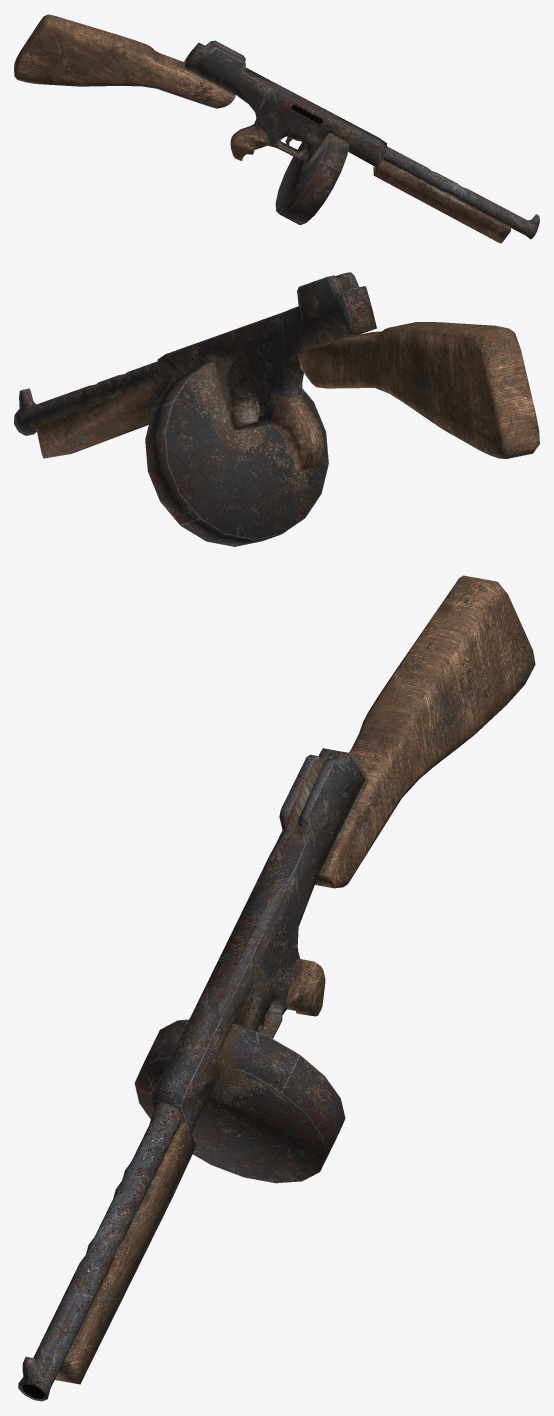
The model's file is Anim_disparar_ametralladora_objetos.0018.obj.
3 renders of one model, top to bottom at view 1: azimuth 30°, elevation 25°; view 2: azimuth 150°, elevation 25°; view 3: azimuth 270°, elevation 25°, orthographic. The views are drawn at different scales.
Visible parts, largest first — view 1: Ametralladora1; view 2: Ametralladora1; view 3: Ametralladora1.
Boxes of the visible parts, <box> form: Ametralladora1: <box>14,14,539,243</box>; Ametralladora1: <box>14,272,539,546</box>; Ametralladora1: <box>18,575,535,1401</box>.
Size of the model in its own units: 5.18 by 2.81 by 2.84.
